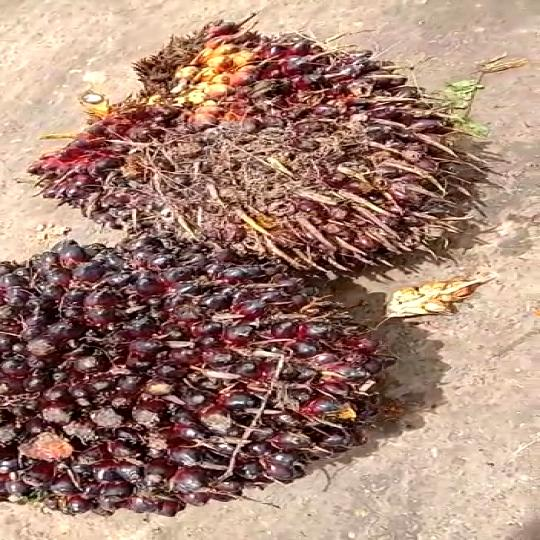kurang masak: (36, 22, 528, 290), (0, 245, 385, 514)
